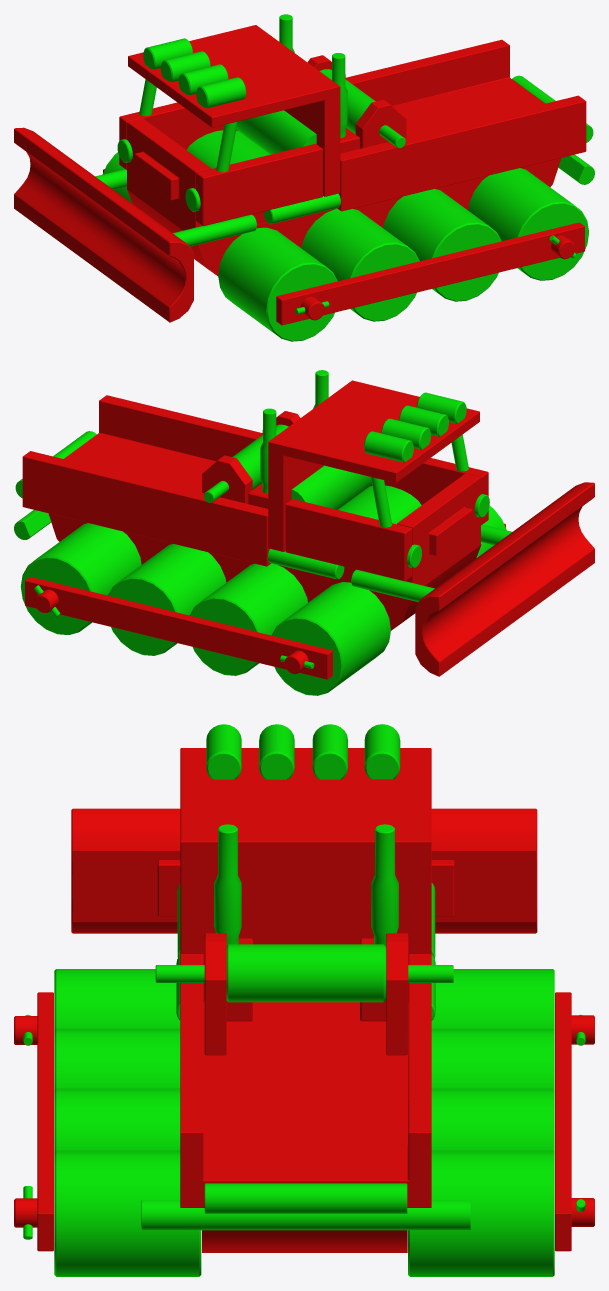
Rendered from SM_Kindred_Bryce_Truck.fbx.
3 renders of one model, top to bottom at view 1: azimuth 30°, elevation 25°; view 2: azimuth 150°, elevation 25°; view 3: azimuth 270°, elevation 25°, orthographic. The views are drawn at different scales.
Parts seen in each view (by area): view 1: polySurface67; view 2: polySurface67; view 3: polySurface67.
Part boxes in pixels (x1,y1,x2,y2): polySurface67: [14, 14, 594, 341]; polySurface67: [14, 370, 594, 695]; polySurface67: [14, 724, 594, 1276].
Size of the model in its own units: 81.41 by 37.07 by 58.54.
